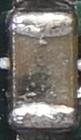Capacitor: (10, 12, 76, 128)
